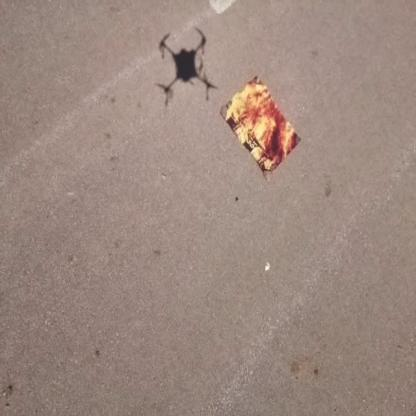fire-poster: (219, 74, 302, 181)
